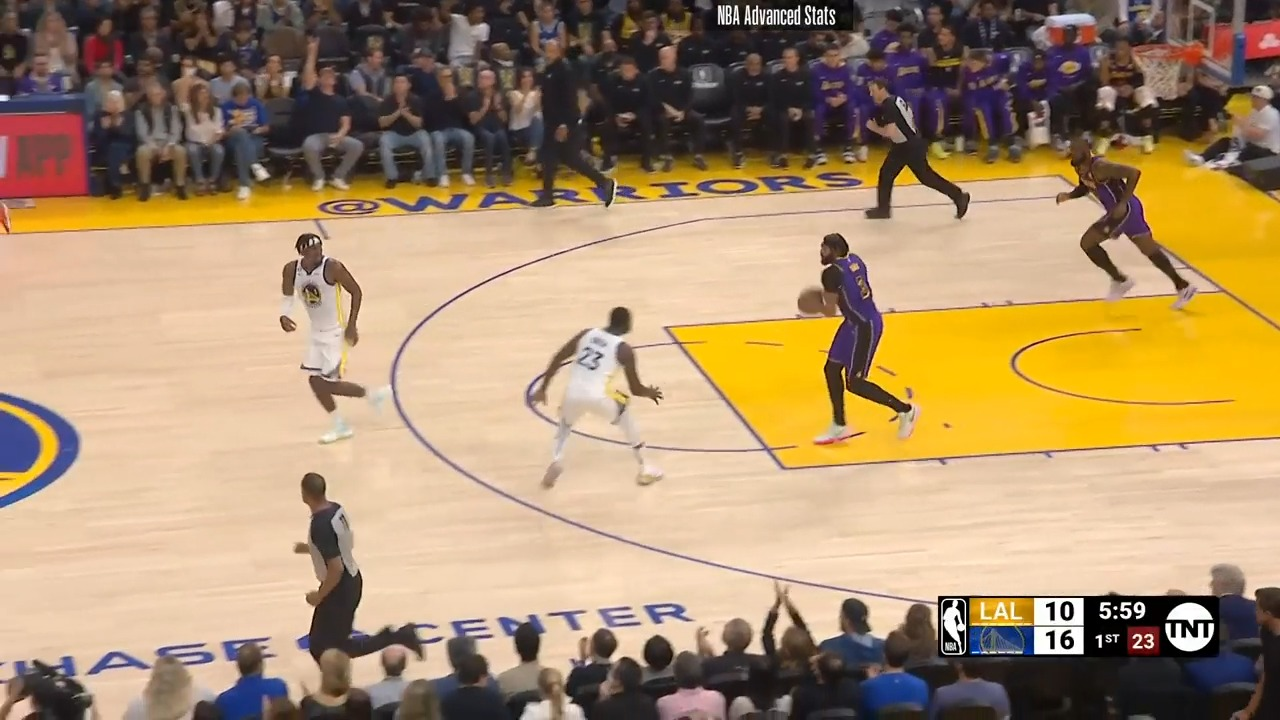net: (1121, 34, 1211, 110)
player: (520, 304, 665, 500), (1051, 131, 1201, 315), (797, 231, 919, 449), (274, 231, 384, 449)
referee: (850, 71, 976, 230), (284, 462, 368, 675)
